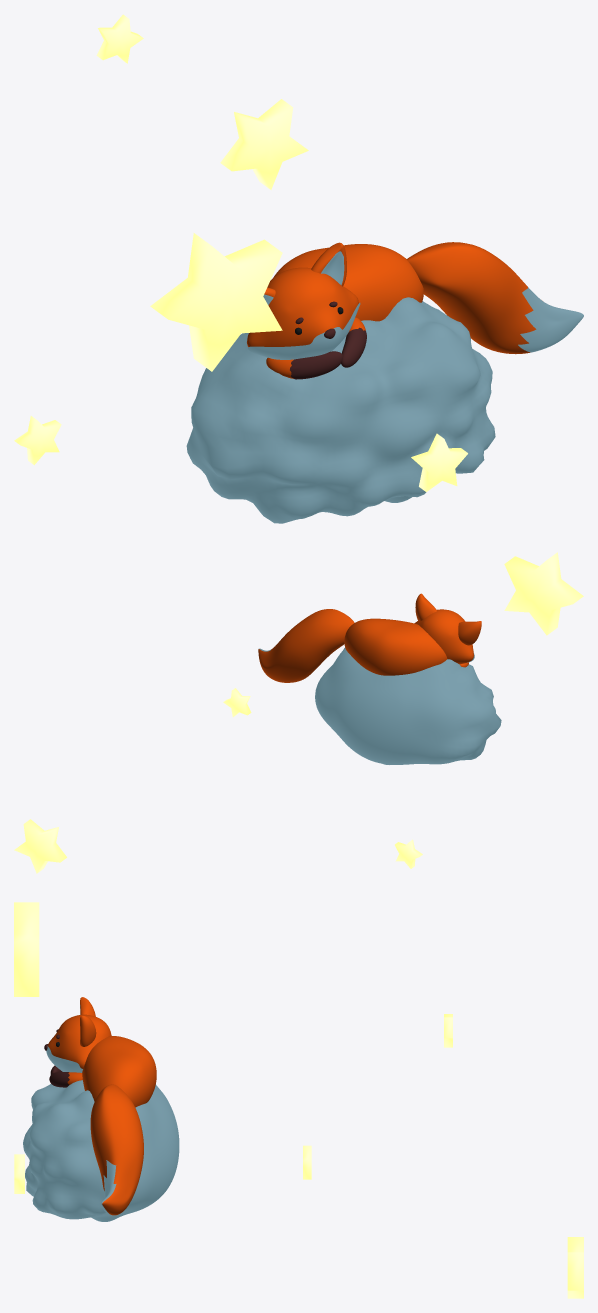
The model's file is fox.glb.
3 renders of one model, top to bottom at view 1: azimuth 30°, elevation 25°; view 2: azimuth 150°, elevation 25°; view 3: azimuth 270°, elevation 25°, orthographic. The views are drawn at different scales.
Visible parts, largest first — view 1: Cube, Star.004, Star.001; view 2: Cube, Star.004, Star.001; view 3: Cube, Star.004, Star.001.
Boxes of the visible parts, <box> form: Cube: <box>186,242,583,523</box>; Star.004: <box>150,233,467,491</box>; Star.001: <box>14,14,308,465</box>; Cube: <box>258,593,501,764</box>; Star.004: <box>504,552,583,635</box>; Star.001: <box>14,688,422,873</box>; Cube: <box>23,997,179,1221</box>; Star.004: <box>14,902,39,1193</box>; Star.001: <box>303,1014,583,1298</box>.
Bounding box in the file's own units: 8.52 × 5.72 × 11.23.
